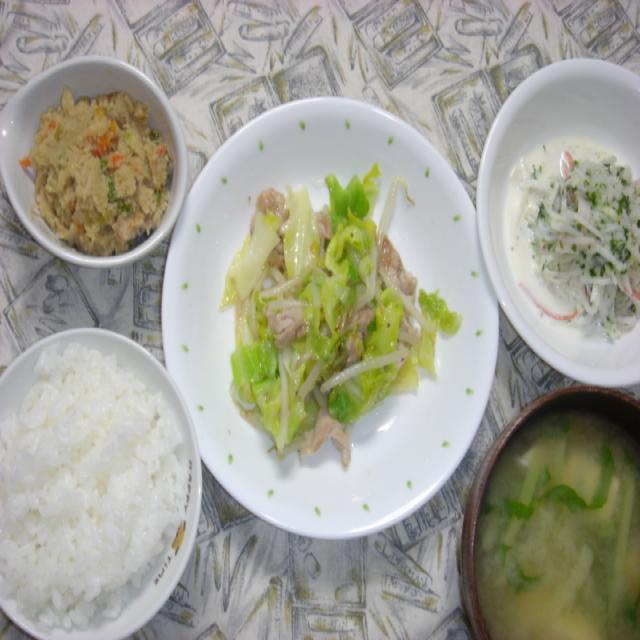蔬菜料理: (198, 160, 472, 483)
